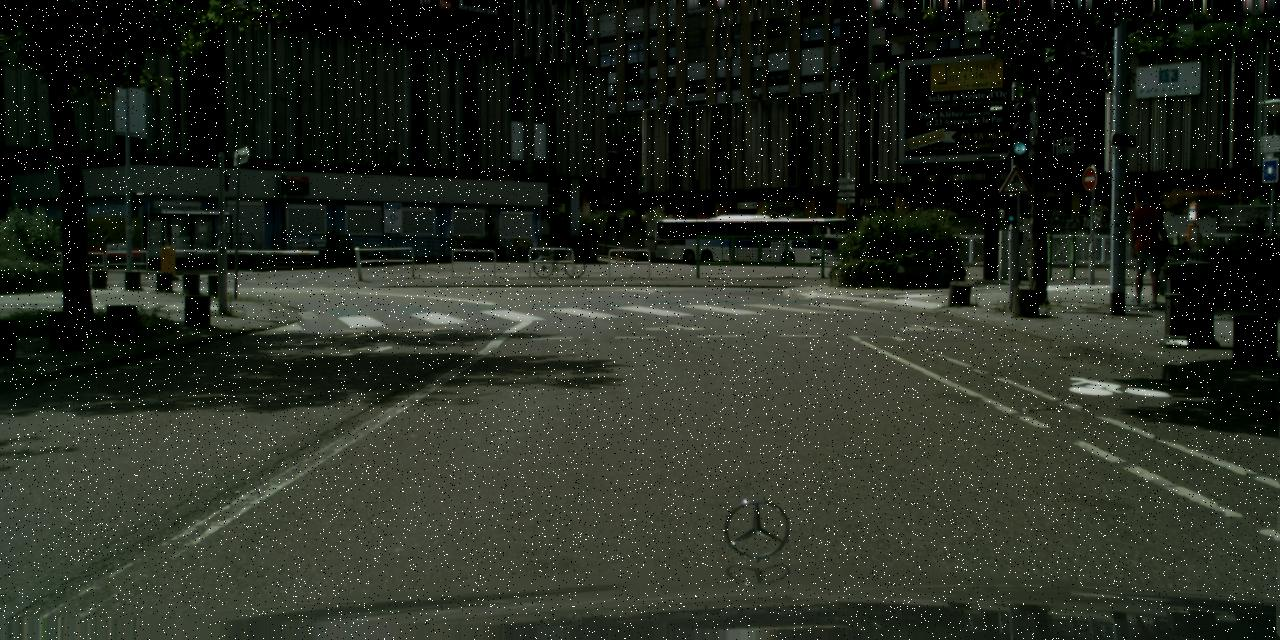ped: (1120, 188, 1168, 307)
